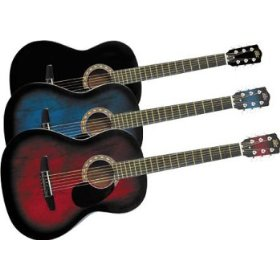guitar: (4, 129, 280, 243), (4, 82, 269, 146), (8, 40, 265, 102)
